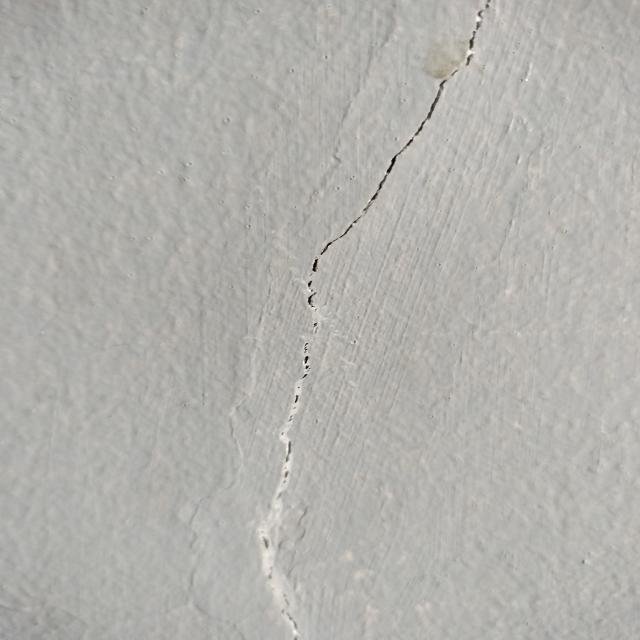Crack: (245, 0, 493, 638)
